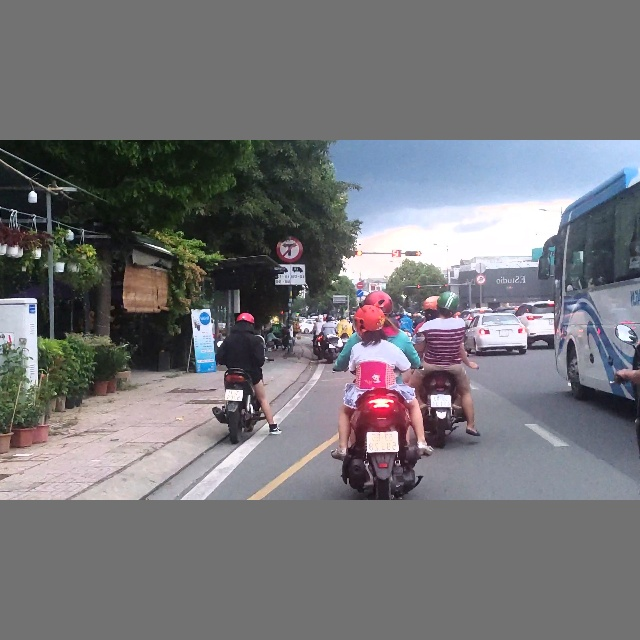P.102: (357, 282, 364, 289)
P.124a*: (475, 273, 486, 285)
P.137: (276, 235, 304, 264)
R.302a: (356, 290, 364, 297)
